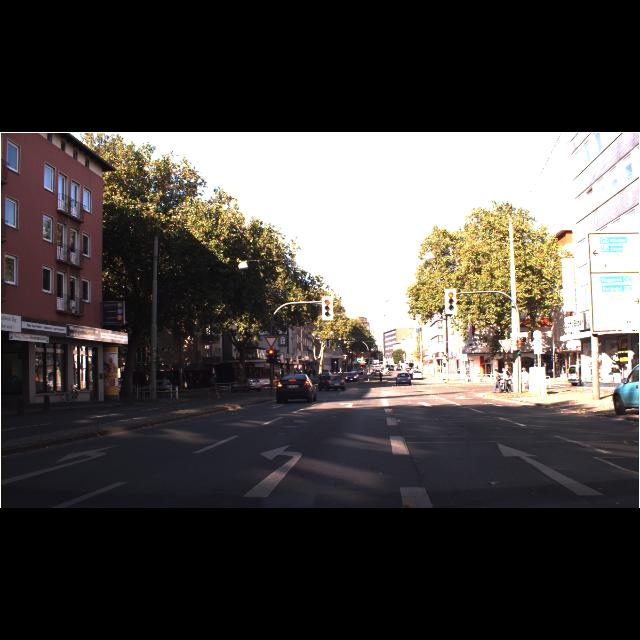other: (499, 340, 513, 352), (264, 336, 278, 348)
